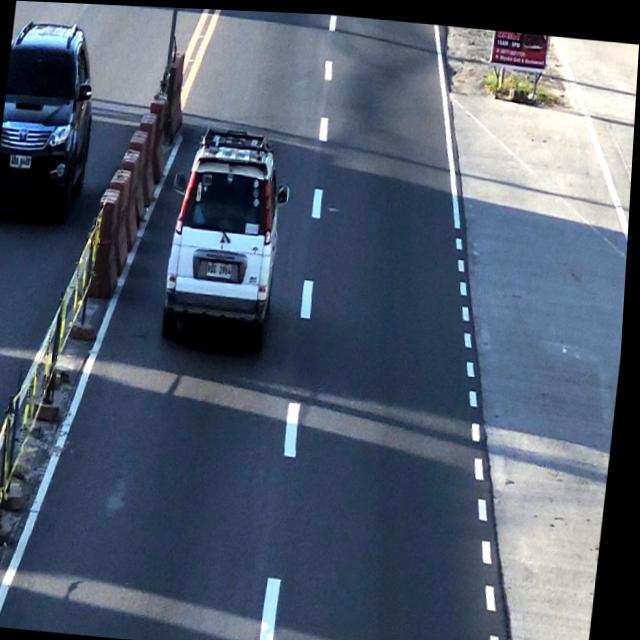Car: (161, 120, 291, 345)
License-Plate: (206, 256, 237, 282)
